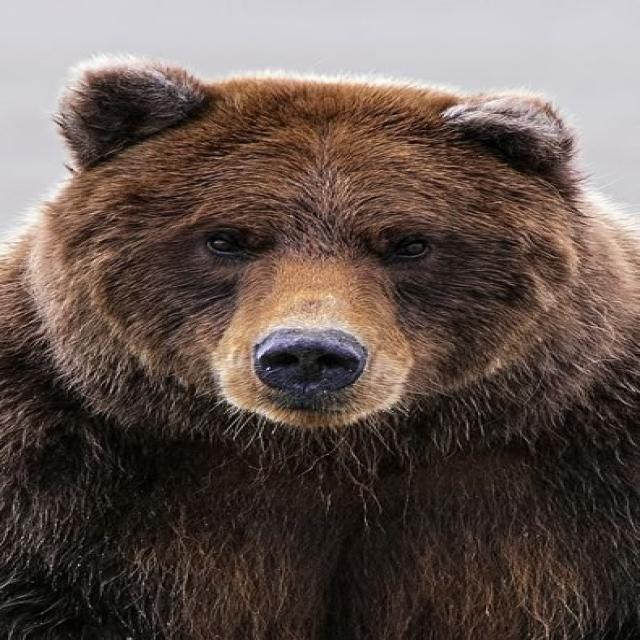bear: (0, 52, 614, 640)
